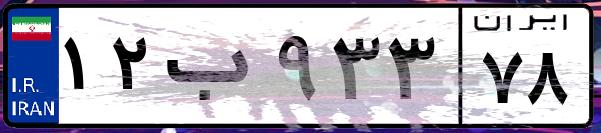1: (57, 26, 110, 100)
2: (110, 28, 158, 98)
3: (385, 28, 445, 110), (330, 28, 385, 110)
7: (475, 38, 525, 113)
8: (525, 38, 570, 115)
9: (270, 28, 330, 110)
ب: (158, 20, 270, 120)
